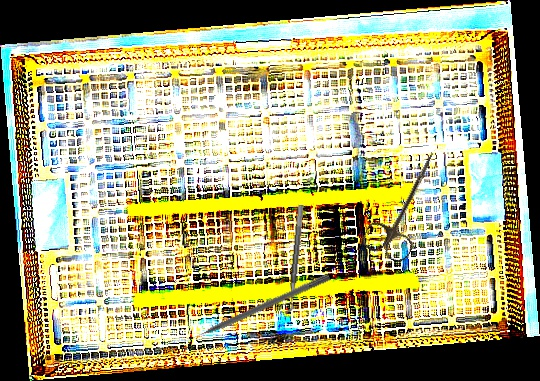Fixation Ring: (277, 203, 305, 315)
Iris Scissors: (359, 141, 453, 266)
Pusher: (182, 272, 331, 345)
